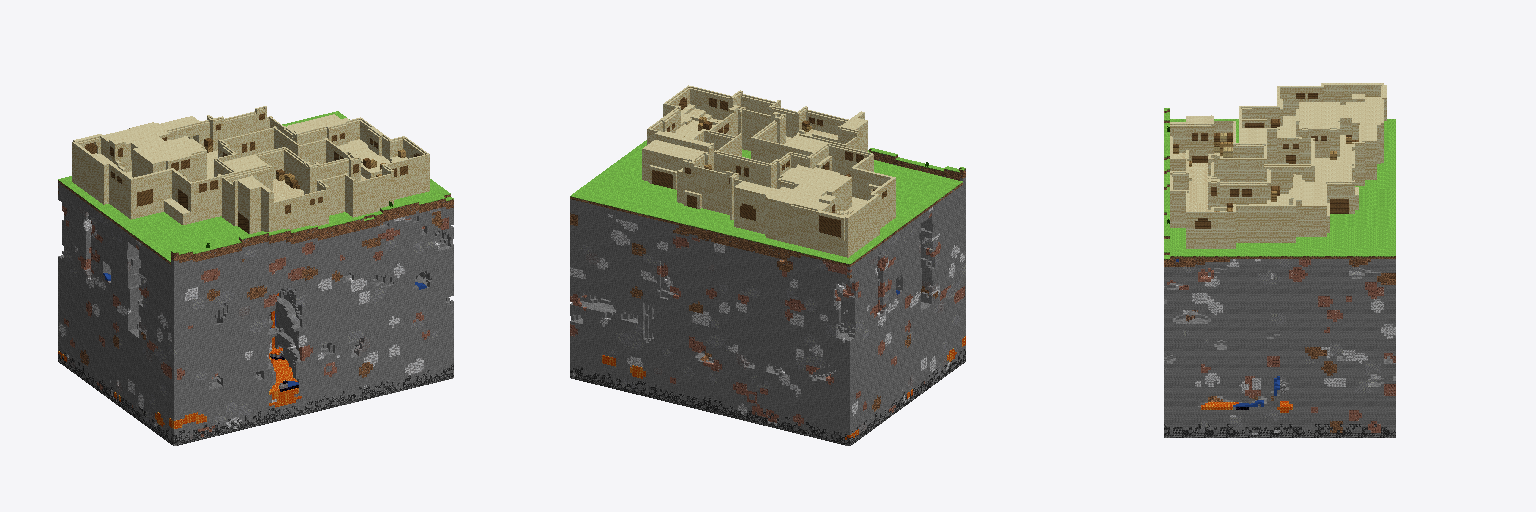
3 views of the same model, side by side, from view 1: azimuth 30°, elevation 25°; view 2: azimuth 150°, elevation 25°; view 3: azimuth 270°, elevation 25° (orthographic).
Size of the model in its own units: 103 by 80 by 74.
Materials: 30 (25 with a texture image).